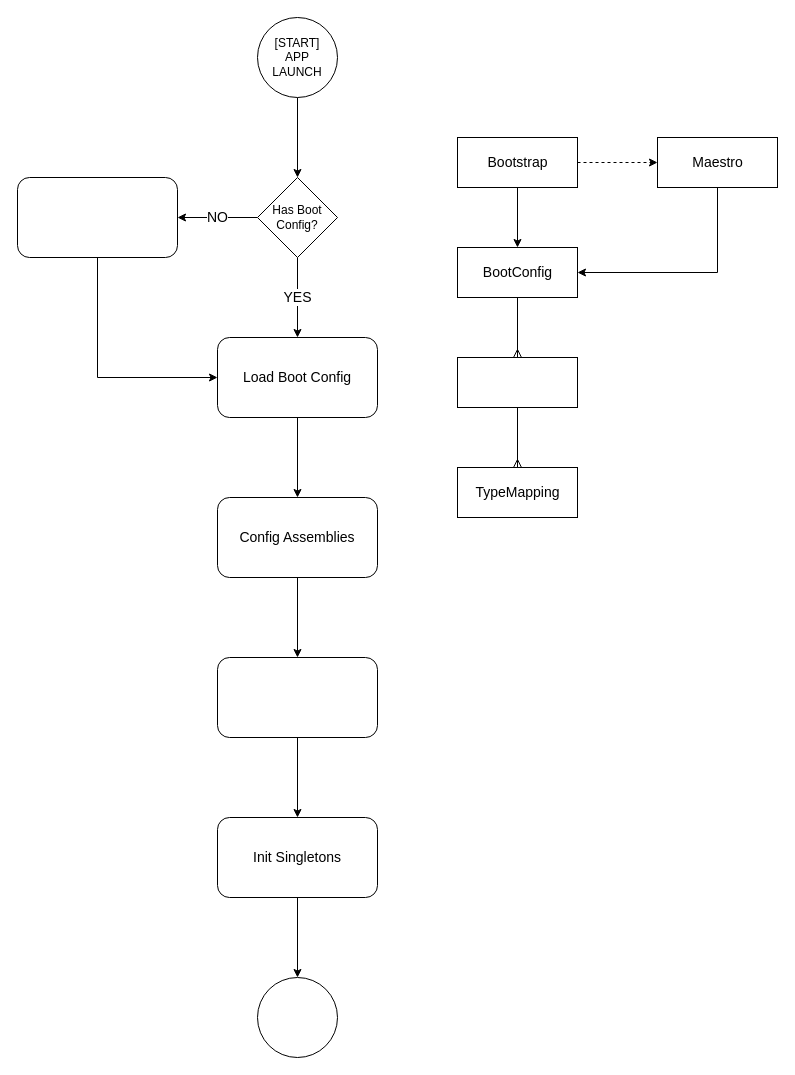
This 795x1075 diagram has some shape labels left out. The centre of each missing label's shape, as x and y in pixels:
"[END] APP LOGIN" goes at point (297, 1017).
"AssemblyConfig" goes at point (517, 382).
"Config Types" goes at point (297, 697).
"Load Default Boot Config" goes at point (97, 217).
